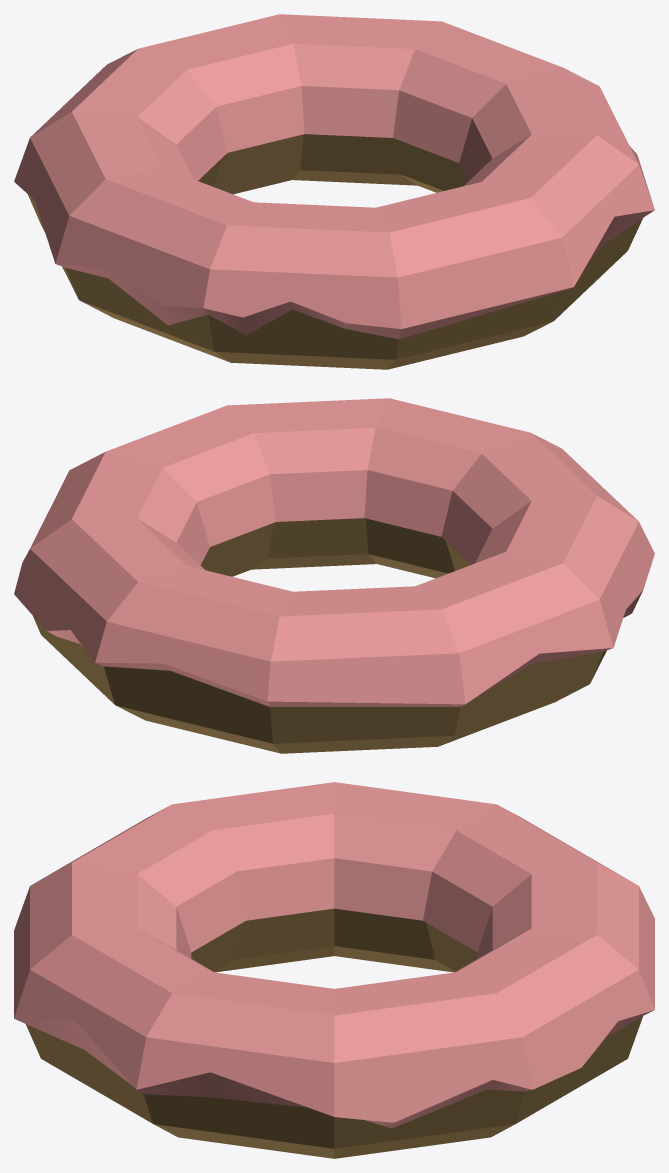
The model's file is prop_donut.fbx.
3 renders of one model, top to bottom at view 1: azimuth 30°, elevation 25°; view 2: azimuth 150°, elevation 25°; view 3: azimuth 270°, elevation 25°, orthographic. The views are drawn at different scales.
Visible parts, largest first — view 1: pTorus1; view 2: pTorus1; view 3: pTorus1.
Part boxes in pixels (x1=…): pTorus1: x1=14, y1=14, x2=654, y2=369; pTorus1: x1=14, y1=398, x2=654, y2=753; pTorus1: x1=14, y1=782, x2=654, y2=1158.
Bounding box in the file's own units: 10.4 × 2.51 × 9.89.
